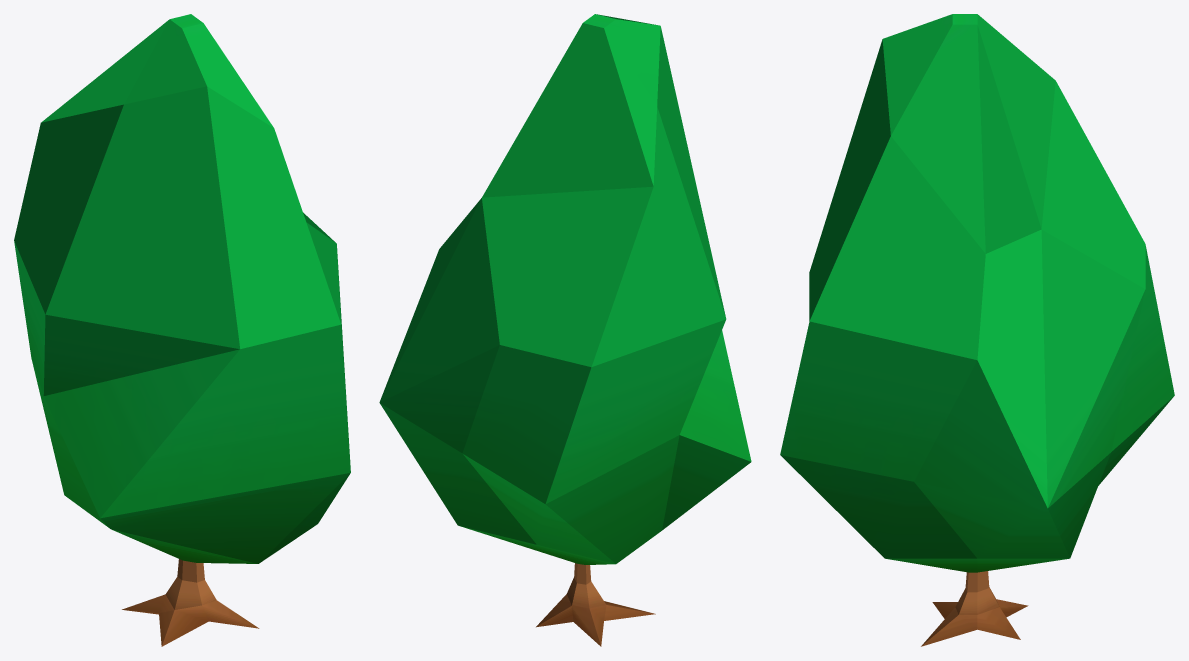
File: bush3.glb
The picture shows the model from 3 angles, left to right: view 1: azimuth 30°, elevation 25°; view 2: azimuth 150°, elevation 25°; view 3: azimuth 270°, elevation 25°; orthographic projection.
Parts seen in each view (by area): view 1: bush3; view 2: bush3; view 3: bush3.
Boxes of the visible parts, x1,y1,x2,y2 form: bush3: [14, 14, 350, 646]; bush3: [379, 14, 751, 646]; bush3: [780, 14, 1174, 646].
Bounding box in the file's own units: 1.7 × 3.09 × 1.83.
1 material, 1 textured.
